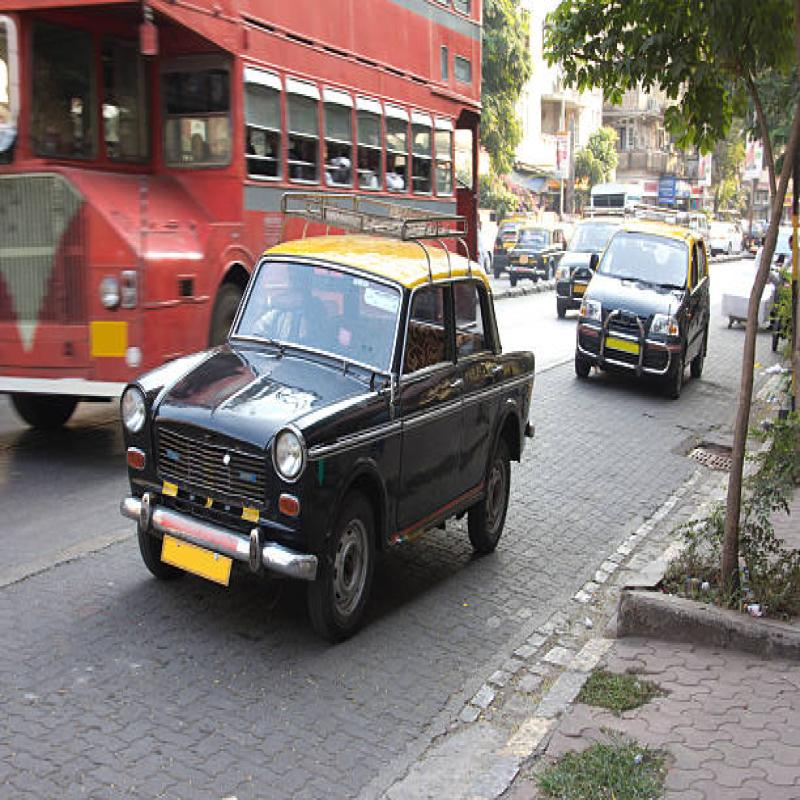car: (128, 206, 540, 580), (582, 212, 706, 375)
